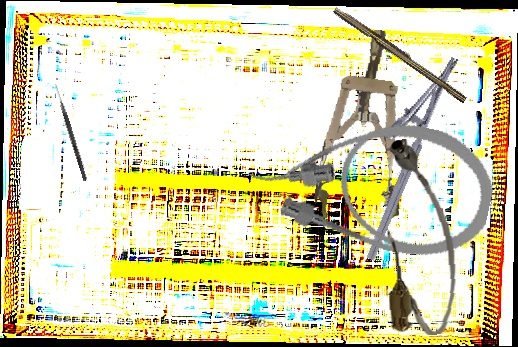Cannula: (243, 94, 503, 270), (377, 136, 462, 338)
Hook Surgical: (52, 83, 89, 182)
Needle Holder: (337, 44, 461, 262)
Scalpel Handle: (331, 4, 470, 104)
Speculum: (311, 24, 424, 232)
